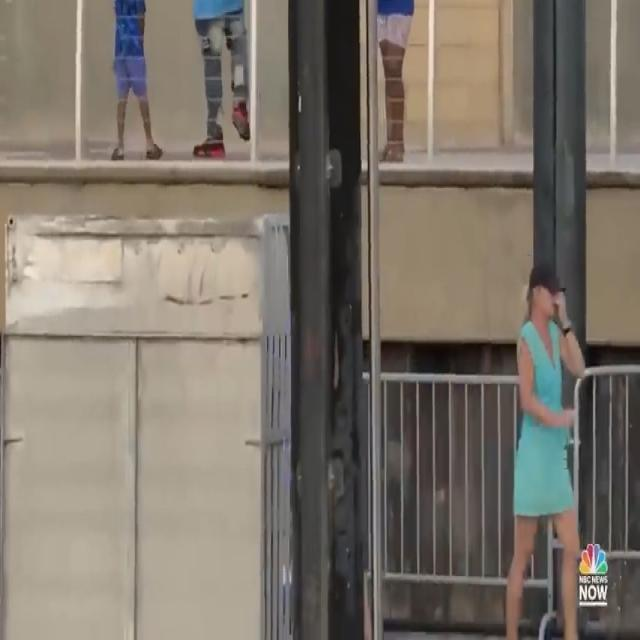non-fight: (496, 252, 585, 640)
